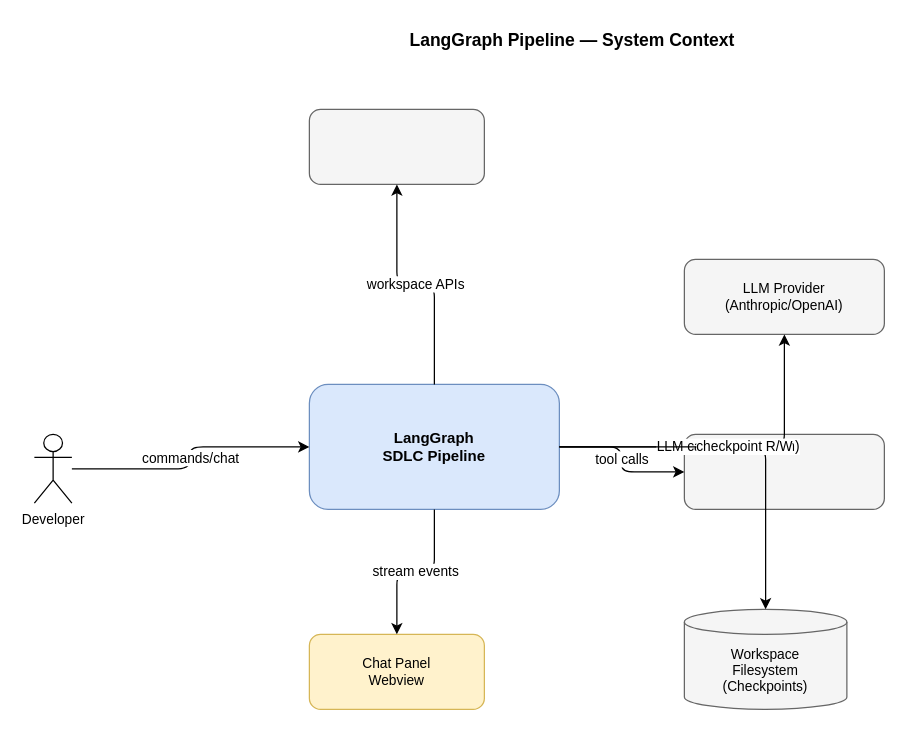
This 906x731 diagram has some shape labels left out. The box of each missing label's shape, as (x1, y1, x2, y2) in pixels:
MCP Servers (Jira, KB, File): (683, 433, 884, 509)
VS Code Extension API: (308, 108, 484, 184)
